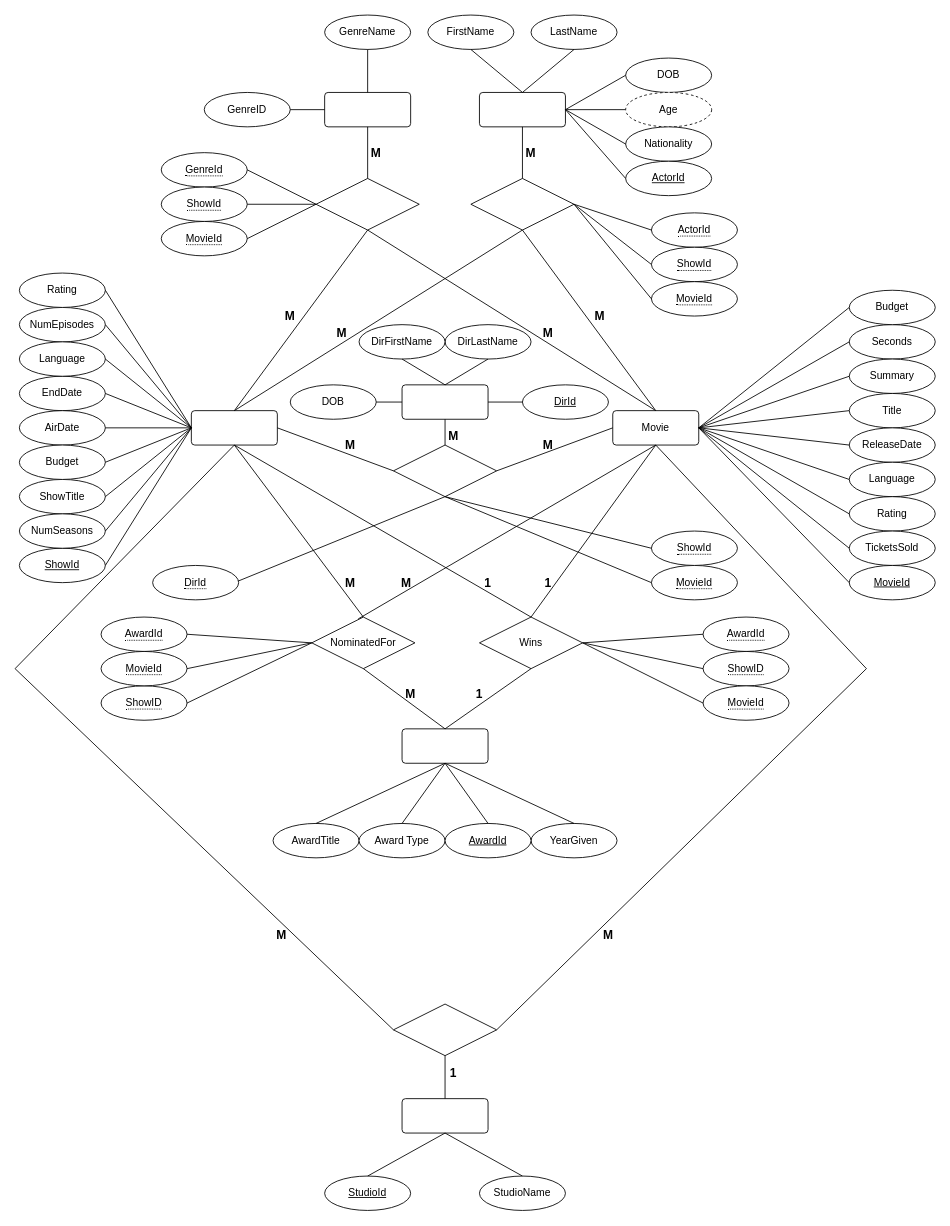
The diagram is 950 pixels wide and 1226 high, and some of its shapes have lost their labels. Each missing label, with the box of its shape:
Actor: (479, 92, 565, 127)
ActsIn: (470, 178, 574, 230)
Award: (401, 728, 488, 763)
Describes: (315, 178, 419, 230)
DirectedBy: (393, 444, 497, 497)
Director: (401, 384, 488, 419)
Genre: (324, 92, 411, 127)
Produces: (393, 1003, 497, 1056)
ProductionStudio: (401, 1098, 488, 1133)
Show: (190, 410, 277, 445)
